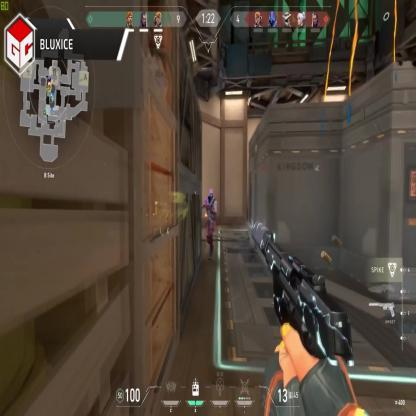enemy: (204, 190, 218, 260)
enemy_head: (208, 189, 213, 198)
